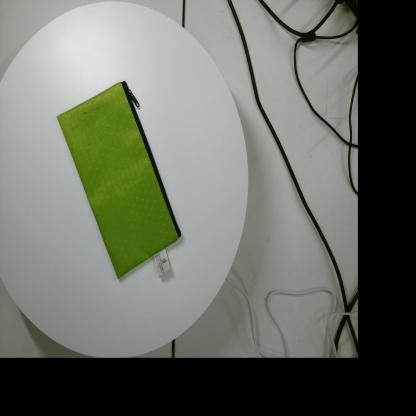Stationery: (56, 80, 181, 280)
